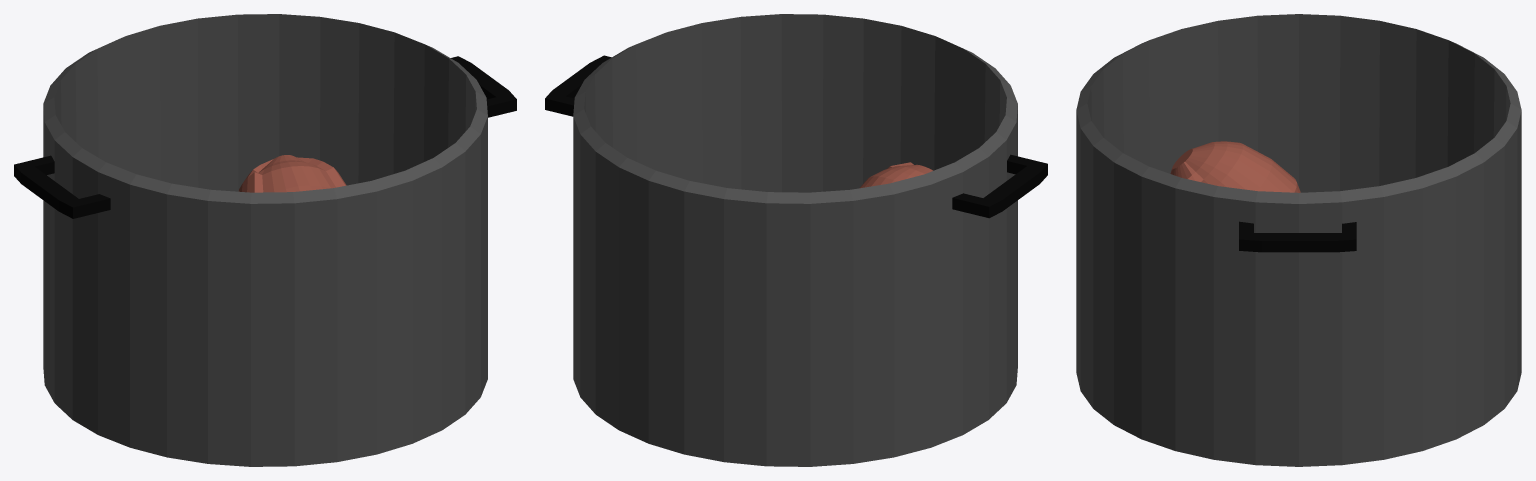
The model's file is Adobong Puti 3rd Stage.fbx.
The picture shows the model from 3 angles, left to right: view 1: azimuth 30°, elevation 25°; view 2: azimuth 150°, elevation 25°; view 3: azimuth 270°, elevation 25°; orthographic projection.
Visible parts, largest first — view 1: Cylinder, Cylinder.001; view 2: Cylinder, Cylinder.002; view 3: Cylinder, Cylinder.002.
Boxes of the visible parts, x1,y1,x2,y2 form: Cylinder: (14,14,516,466); Cylinder.001: (238,155,346,192); Cylinder: (545,14,1047,466); Cylinder.002: (859,162,933,188); Cylinder: (1076,14,1521,466); Cylinder.002: (1170,141,1300,192).
Bounding box in the file's own units: 79.81 × 45.7 × 68.44.
